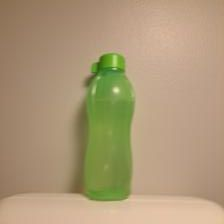bottle: (77, 50, 139, 205)
